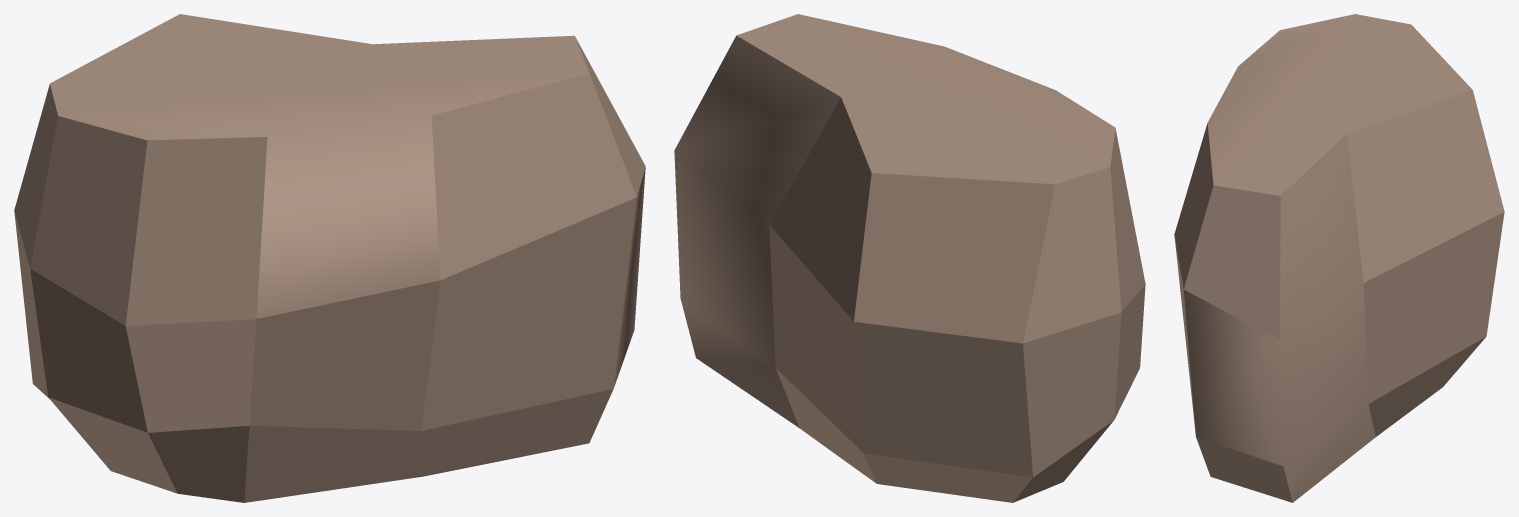
File: Stackable_Rock_2_1_1_Colored_v03.fbx
3 views of the same model, side by side, from view 1: azimuth 30°, elevation 25°; view 2: azimuth 150°, elevation 25°; view 3: azimuth 270°, elevation 25° (orthographic). The views are drawn at different scales.
Visible parts, largest first — view 1: Stackable_Rock_2_2_1_v03; view 2: Stackable_Rock_2_2_1_v03; view 3: Stackable_Rock_2_2_1_v03.
Boxes of the visible parts, box(x1,y1,x2,y2) form: Stackable_Rock_2_2_1_v03: box(14, 14, 645, 502); Stackable_Rock_2_2_1_v03: box(674, 14, 1145, 502); Stackable_Rock_2_2_1_v03: box(1174, 14, 1504, 502).
Size of the model in its own units: 158 by 100 by 101.
